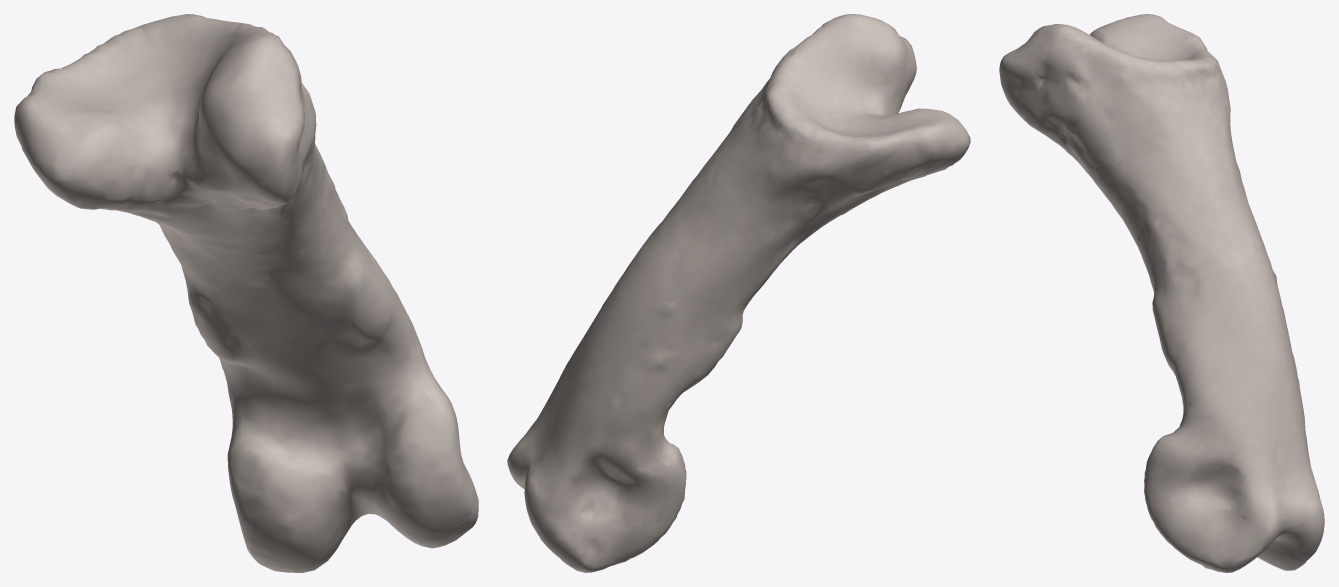
3 renders of one model, left to right at view 1: azimuth 30°, elevation 25°; view 2: azimuth 150°, elevation 25°; view 3: azimuth 270°, elevation 25°, orthographic. The views are drawn at different scales.
Visible parts, largest first — view 1: Phalanx_prox_vo_Katze.001; view 2: Phalanx_prox_vo_Katze.001; view 3: Phalanx_prox_vo_Katze.001.
Part boxes in pixels (x1=…): Phalanx_prox_vo_Katze.001: x1=14, y1=14, x2=478, y2=572; Phalanx_prox_vo_Katze.001: x1=507, y1=14, x2=970, y2=572; Phalanx_prox_vo_Katze.001: x1=999, y1=14, x2=1324, y2=572.
Bounding box in the file's own units: 986 × 1264 × 785.
Materials: 1 (1 with a texture image).
